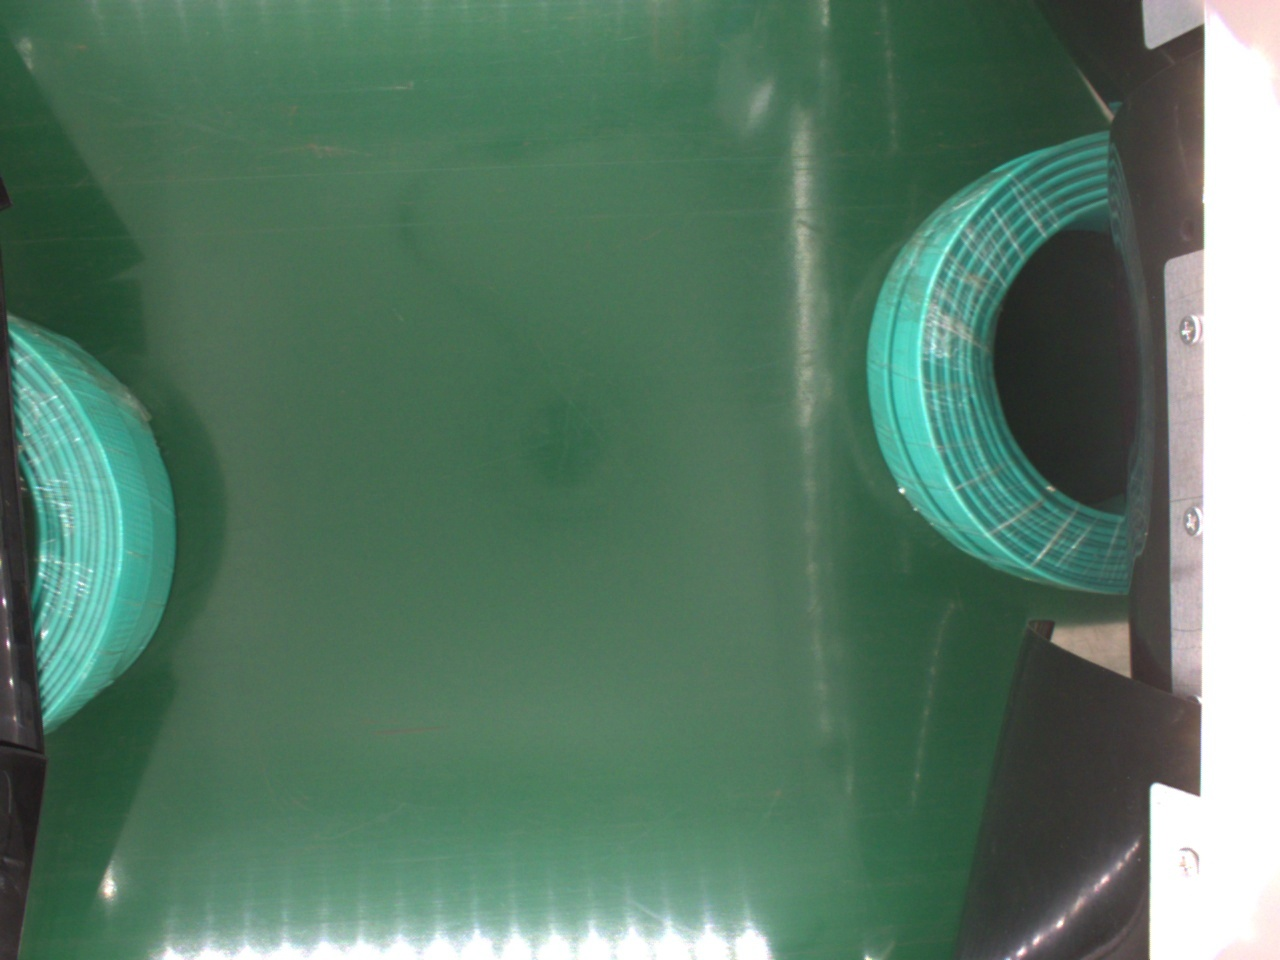green: (864, 127, 1141, 599), (1, 308, 174, 715)
